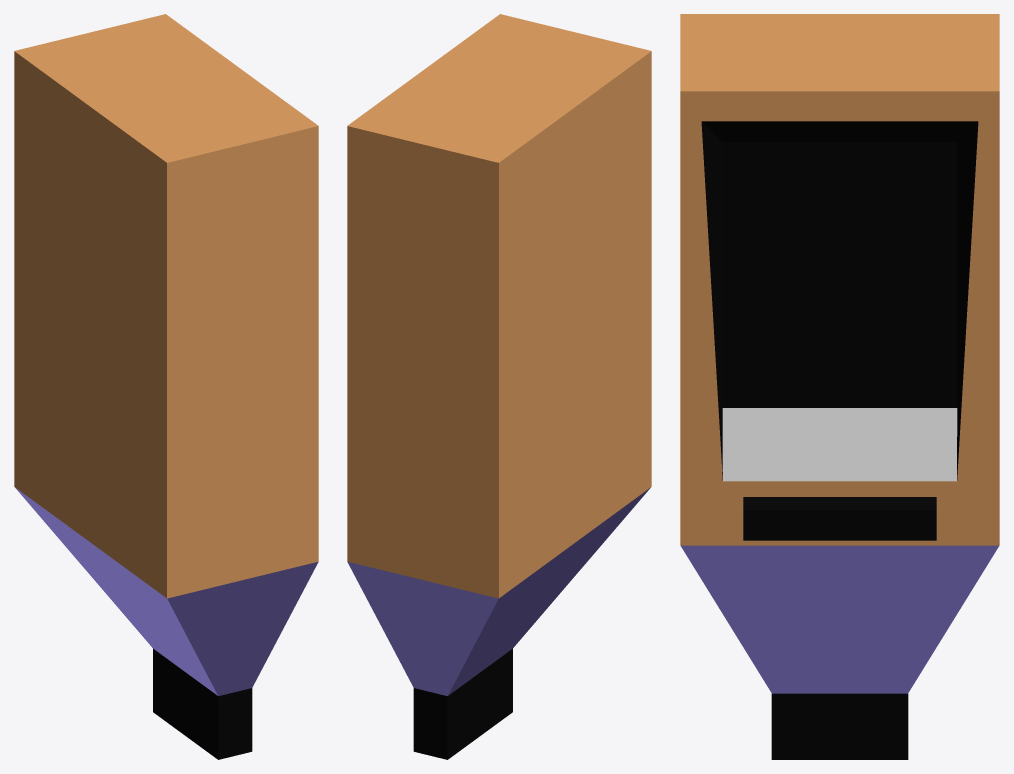
Rendered from food.fbx.
3 views of the same model, side by side, from view 1: azimuth 30°, elevation 25°; view 2: azimuth 150°, elevation 25°; view 3: azimuth 270°, elevation 25° (orthographic). The views are drawn at different scales.
Parts seen in each view (by area): view 1: Cube; view 2: Cube; view 3: Cube, Cube.001.
Part boxes in pixels (bbox=[...]): Cube: bbox=[14, 14, 318, 759]; Cube: bbox=[347, 14, 651, 759]; Cube: bbox=[680, 14, 999, 759]; Cube.001: bbox=[743, 497, 936, 540].
Size of the model in its own units: 134 by 470 by 200.
